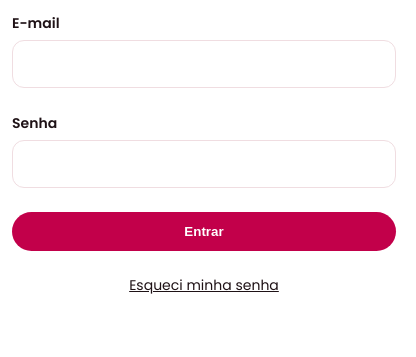
it: LoginForm › shows a generic error on invalid credentials, without revealing which field was wrong
The image size is (416, 357).
Type "errada@liac.club" into the field labelled "E-mail". click: (204, 64)
box: [12,40,396,88]
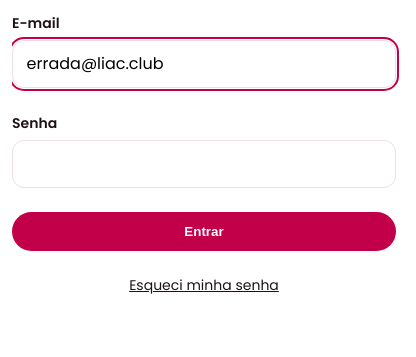
Type "errada" into the password field labelled "Senha". click: (204, 164)
box: [12,140,396,188]
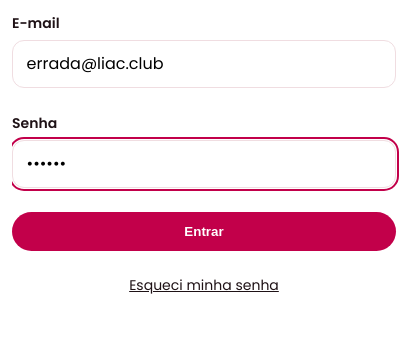
Click the button "Entrar". click: (204, 231)
box: [12,212,396,250]
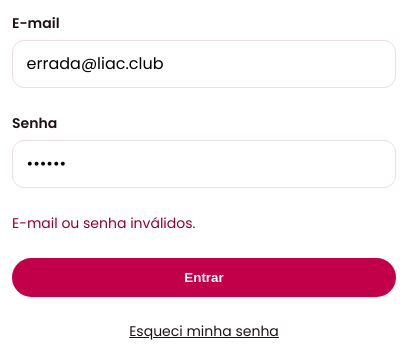
Expected: the message reads "E-mail ou senha inválidos.", [12,212,196,232]
